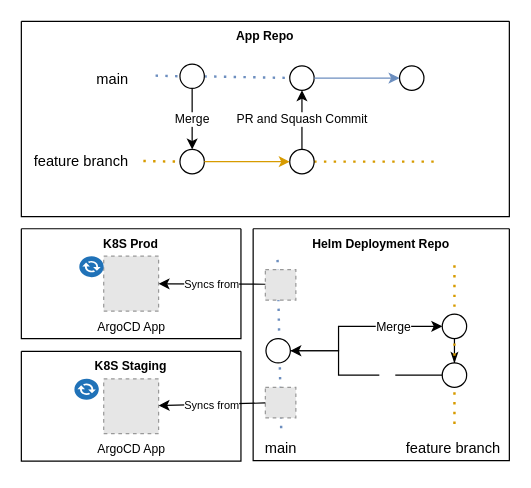
This 531x488 diagram has some shape labels left out. Grey dashed boxes stand in for pictures. Each missing label, with the centre of its shape:
Build Workflow: pixel 411 77
Commit image tag: pixel 454 374
Commits: pixel 301 161
